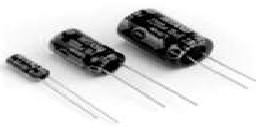Electrolytic-Capacitor: (47, 27, 198, 121), (116, 3, 256, 91), (5, 53, 120, 128)
